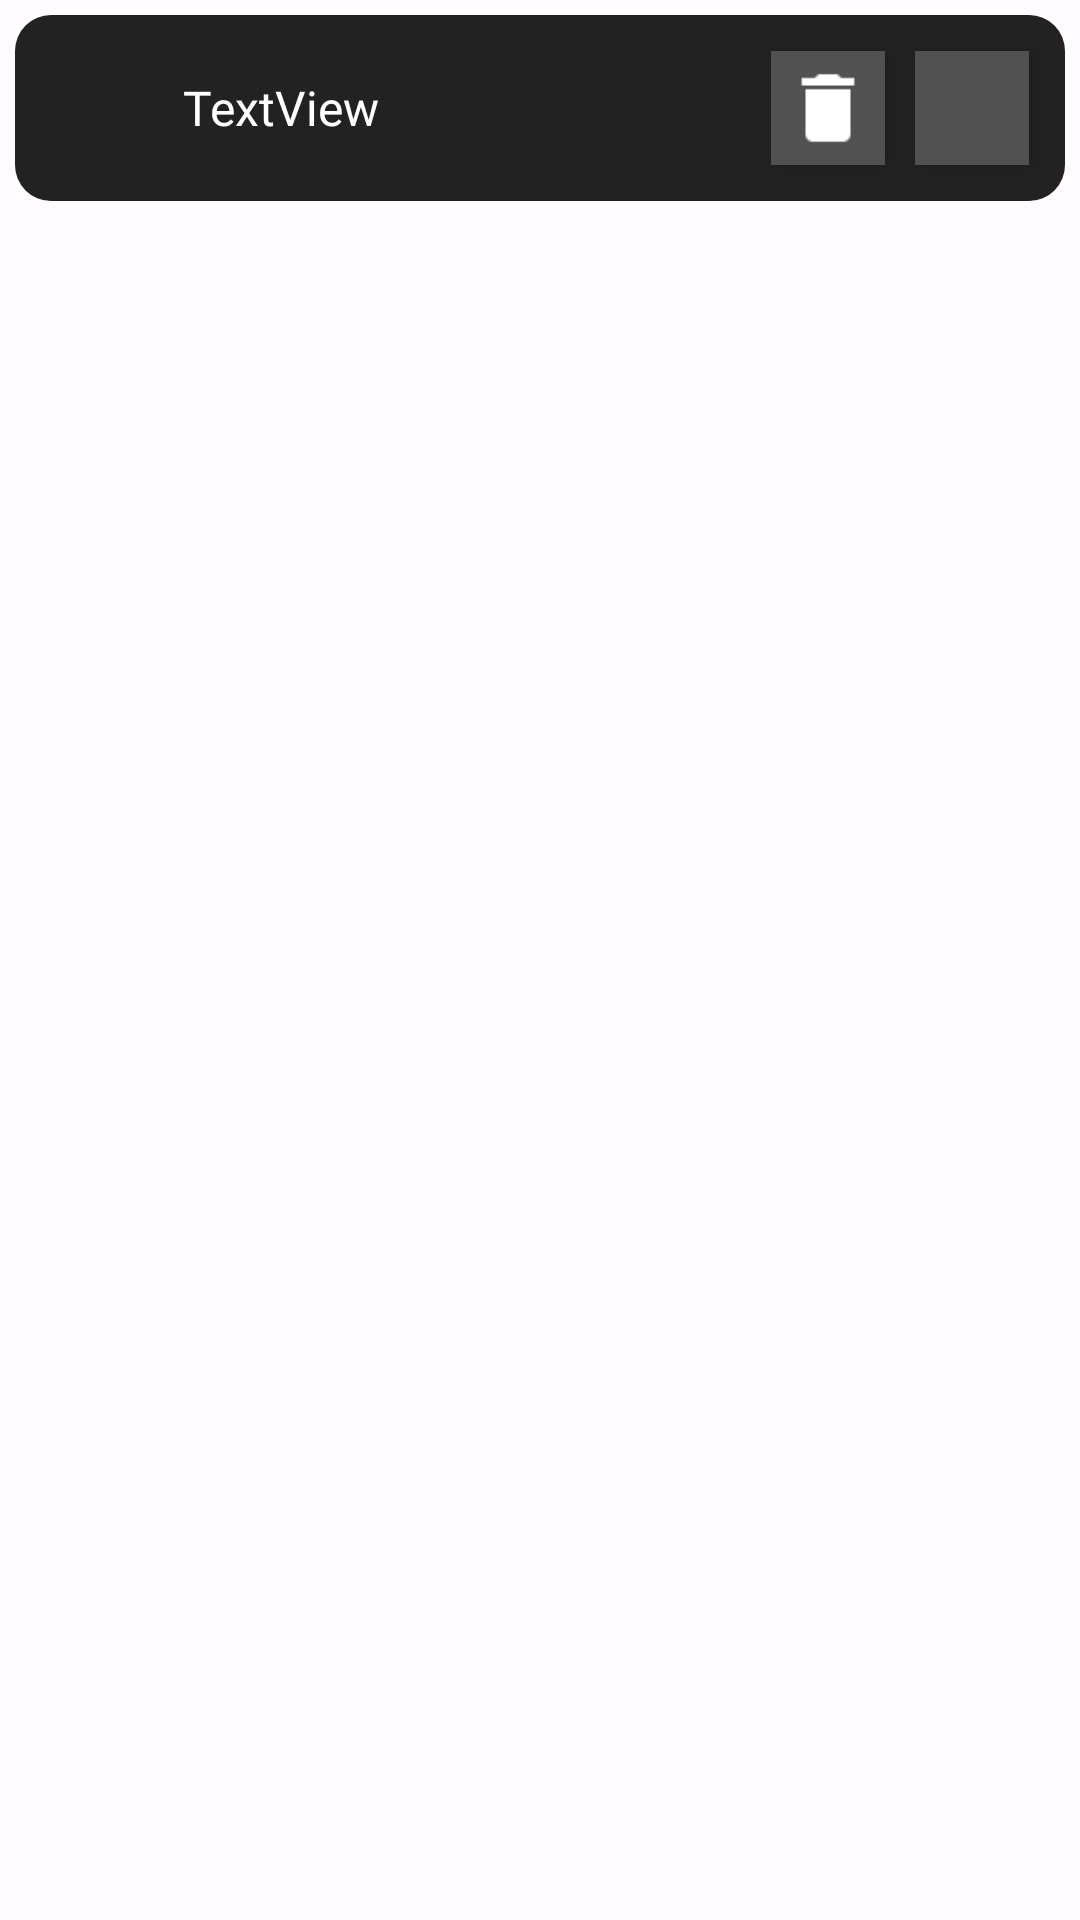

Named icons in this screenshot (1080px x 1920px) and their bounding boxes, (x1,y1,x2,y2):
delete: (801,74,855,142)
